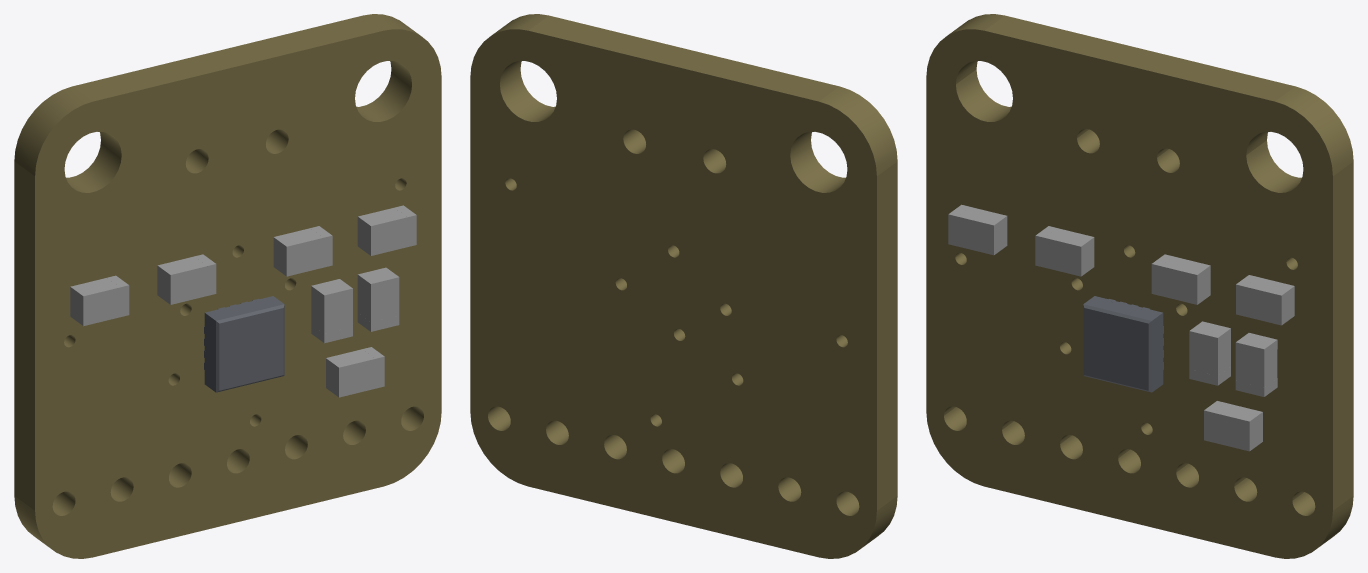
The model's file is max98357a.glb.
3 renders of one model, left to right at view 1: azimuth 30°, elevation 25°; view 2: azimuth 150°, elevation 25°; view 3: azimuth 330°, elevation 25°, orthographic.
Parts seen in each view (by area): view 1: max98357a; view 2: max98357a; view 3: max98357a.
Boxes of the visible parts, bbox=[...] form: max98357a: bbox=[14, 14, 441, 558]; max98357a: bbox=[470, 14, 897, 558]; max98357a: bbox=[926, 14, 1353, 558].
Bounding box in the file's own units: 17.78 × 19.05 × 2.57.
